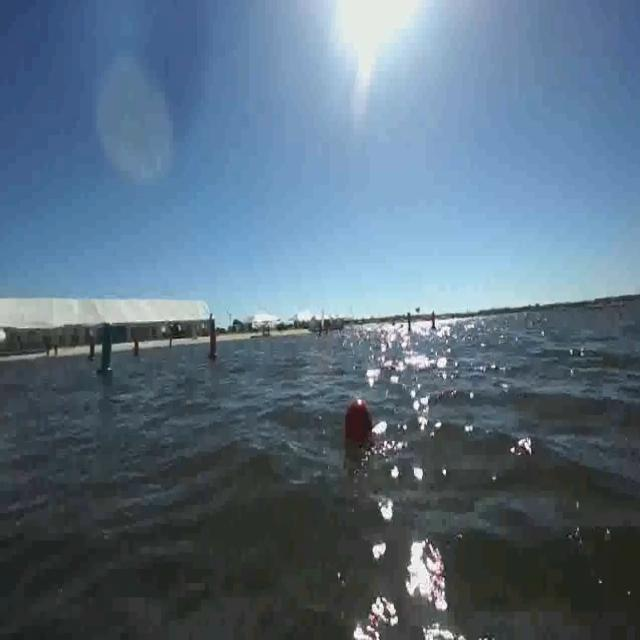green-column-buoy: (97, 322, 116, 376), (87, 333, 96, 359)
red-buoy: (343, 398, 375, 446)
red-column-buoy: (207, 319, 221, 362), (133, 337, 141, 360)
